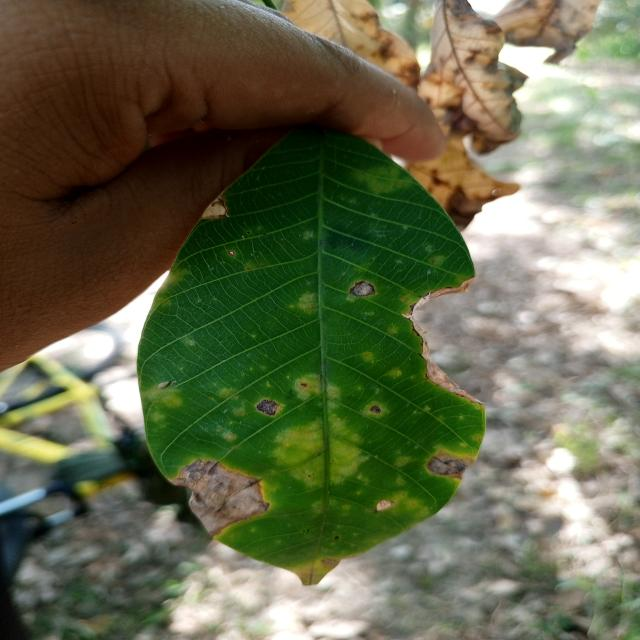Colletotrichum: (348, 280, 376, 297), (369, 406, 382, 414), (228, 250, 235, 256), (334, 536, 339, 540)
Leaf-Blight: (168, 458, 271, 537), (421, 338, 483, 404), (200, 196, 229, 220), (376, 500, 394, 511)
